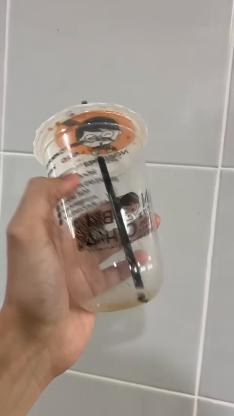Plastic Cup: (32, 105, 164, 317)
